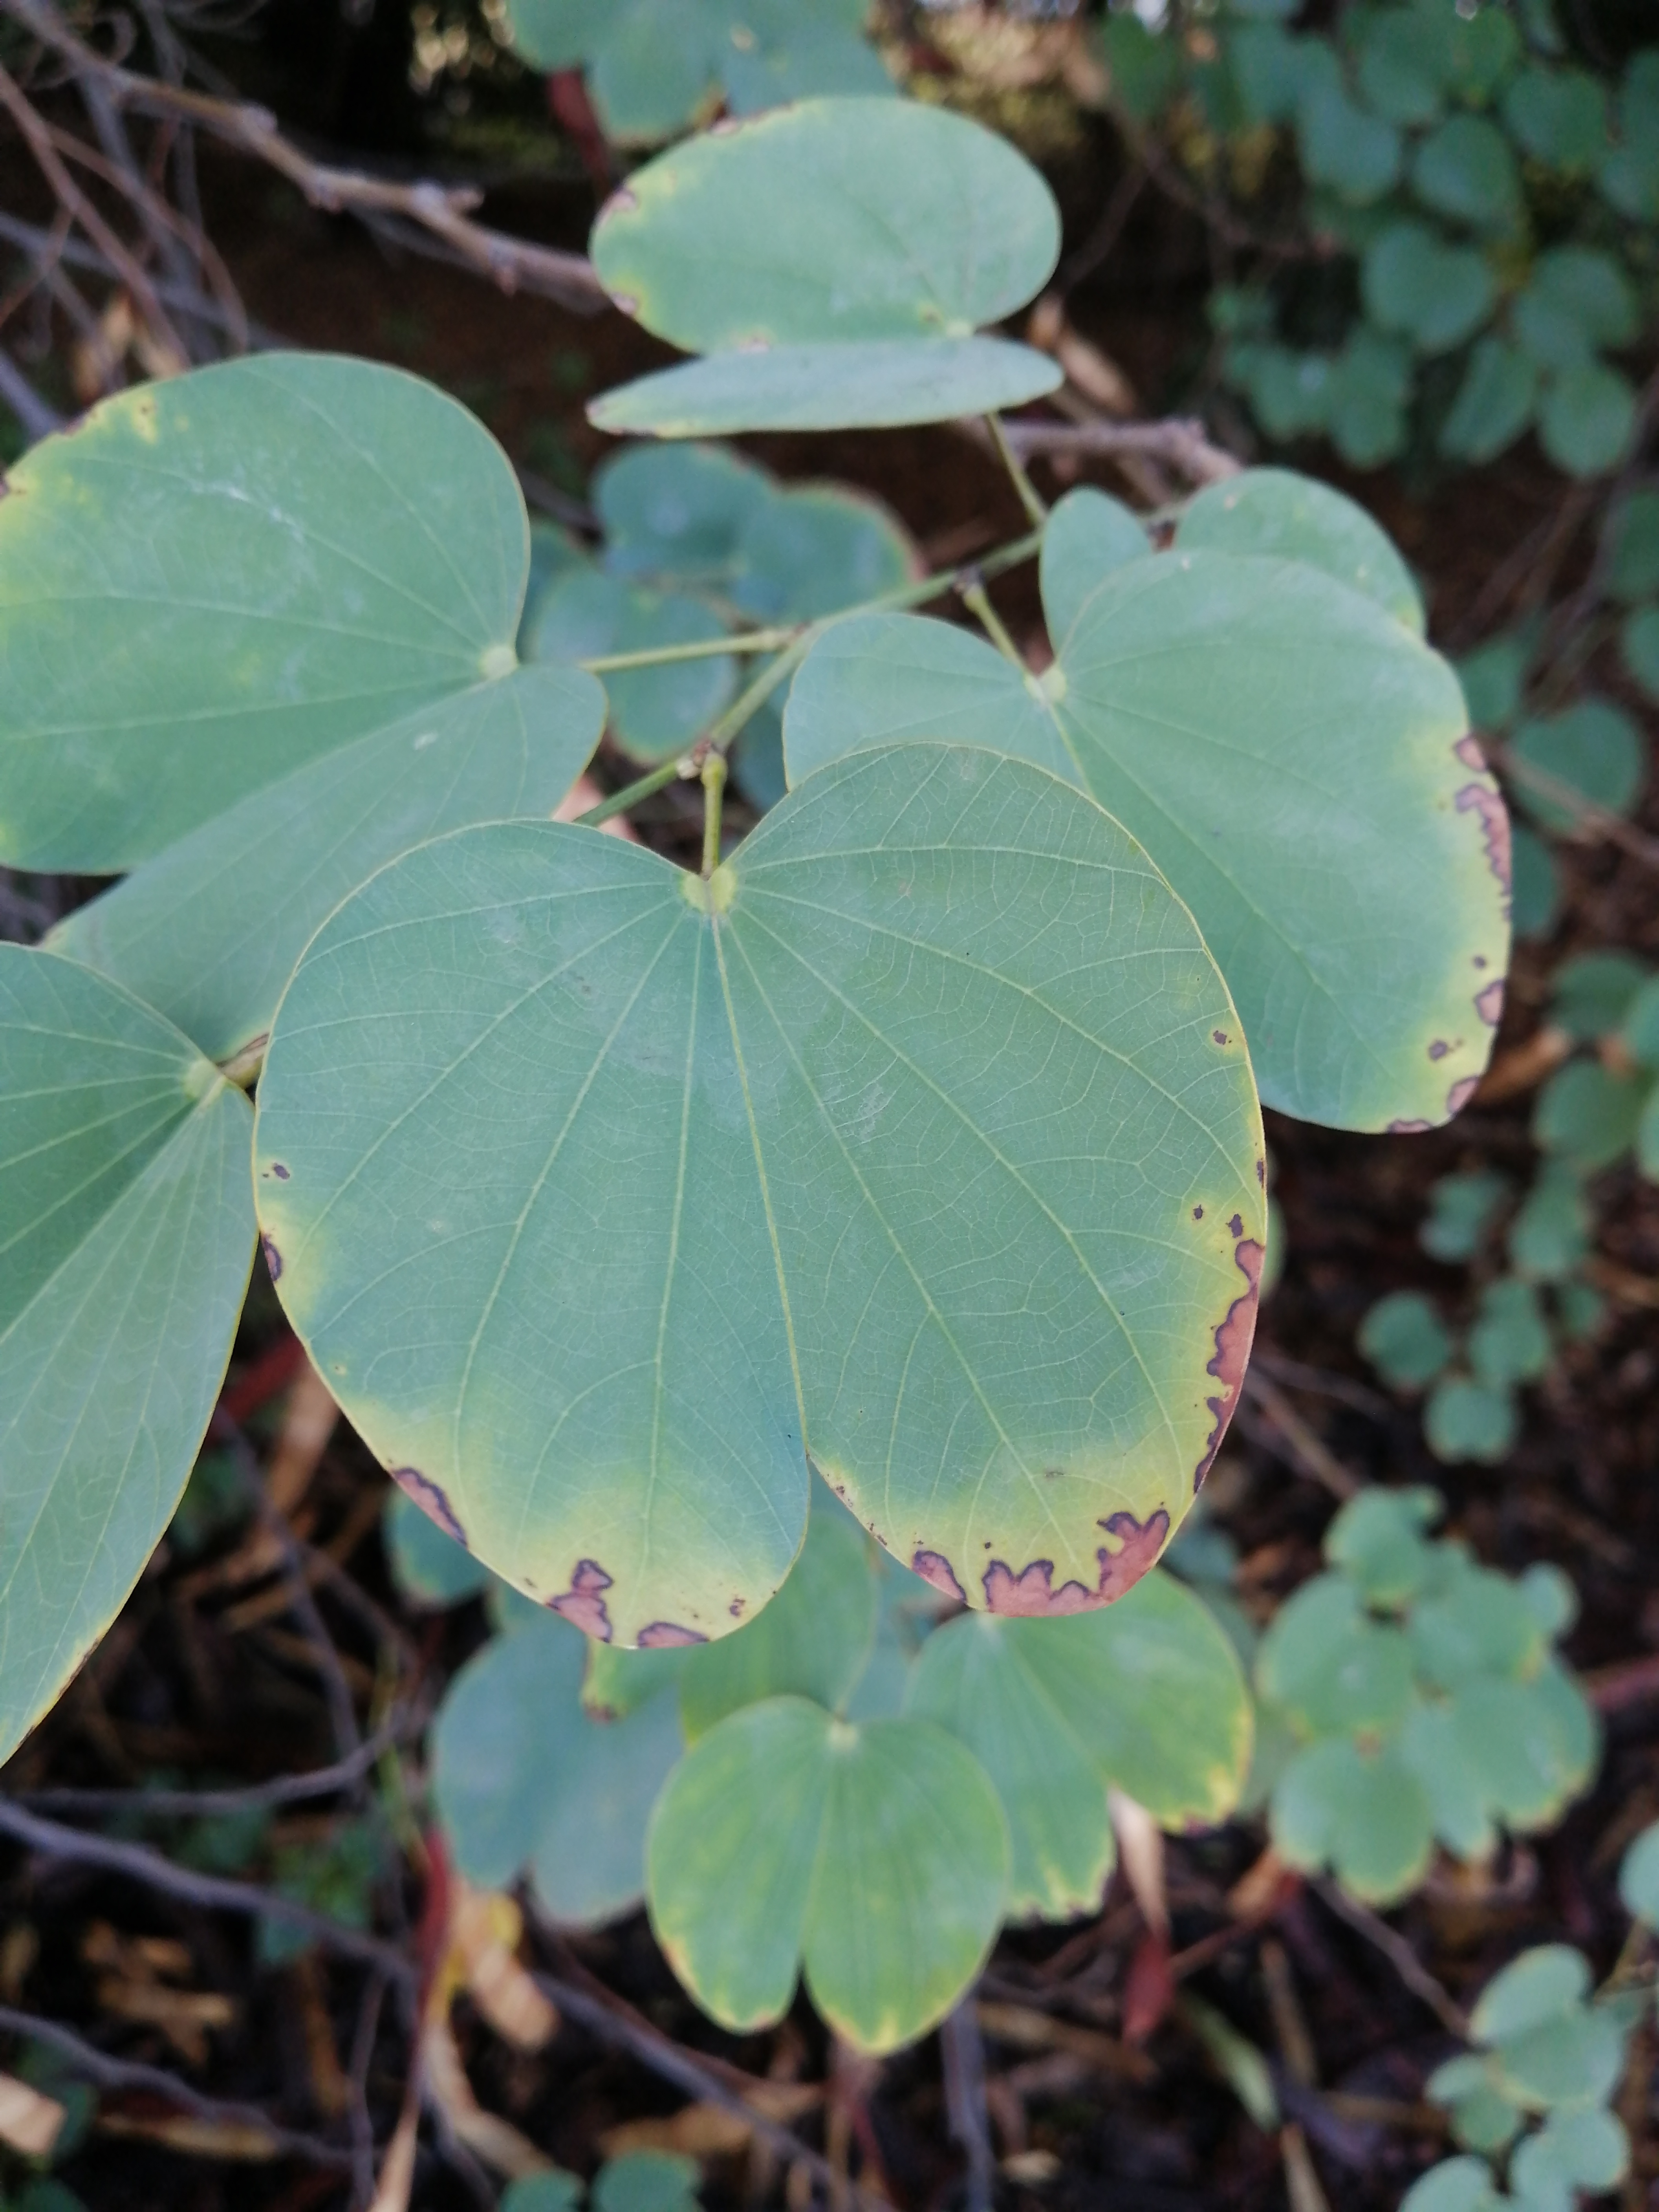healthy: (657, 1663, 964, 2059)
nothealthy: (202, 671, 1328, 1663), (1213, 549, 1549, 1170)
